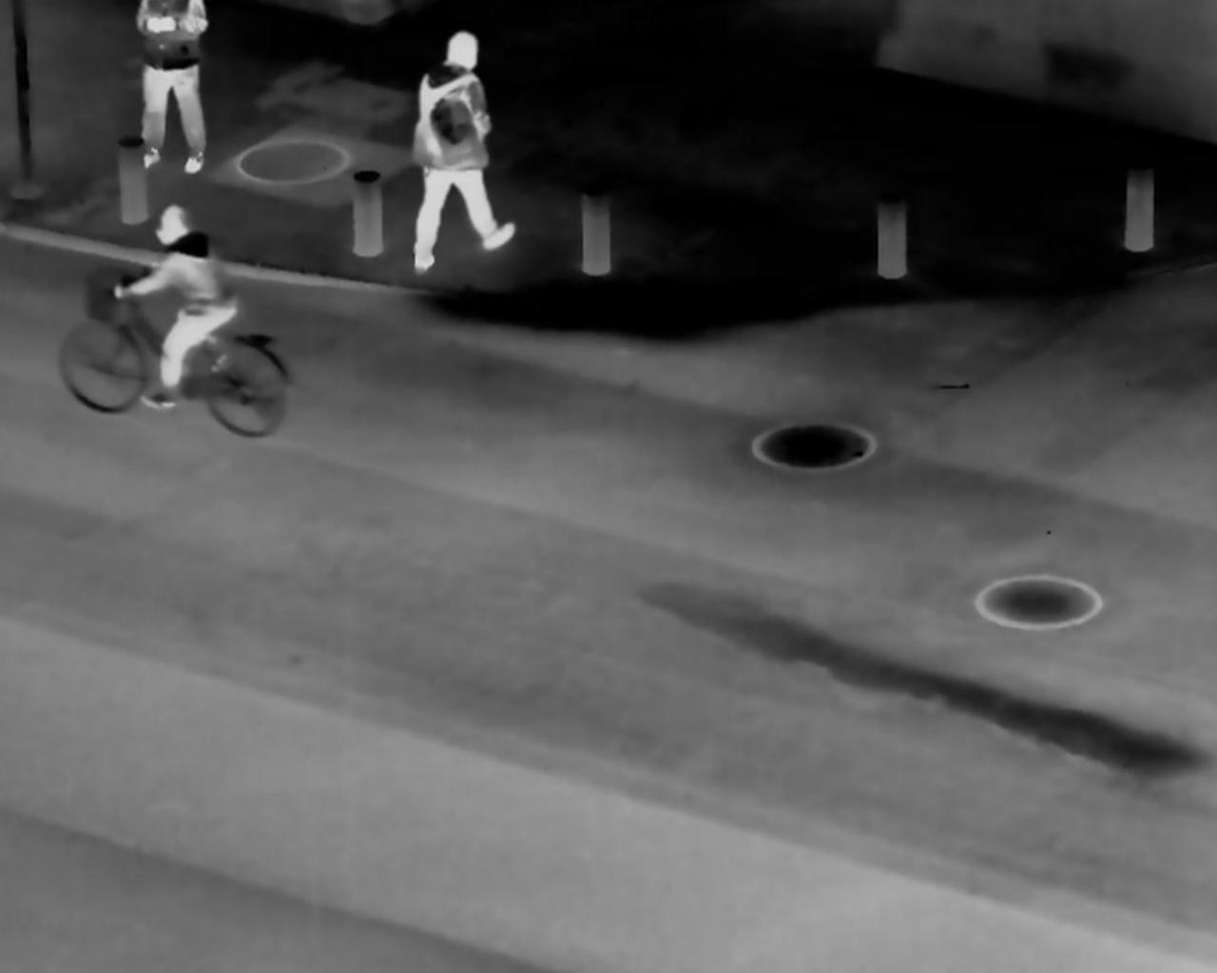person: (406, 19, 511, 277), (114, 201, 236, 412)
